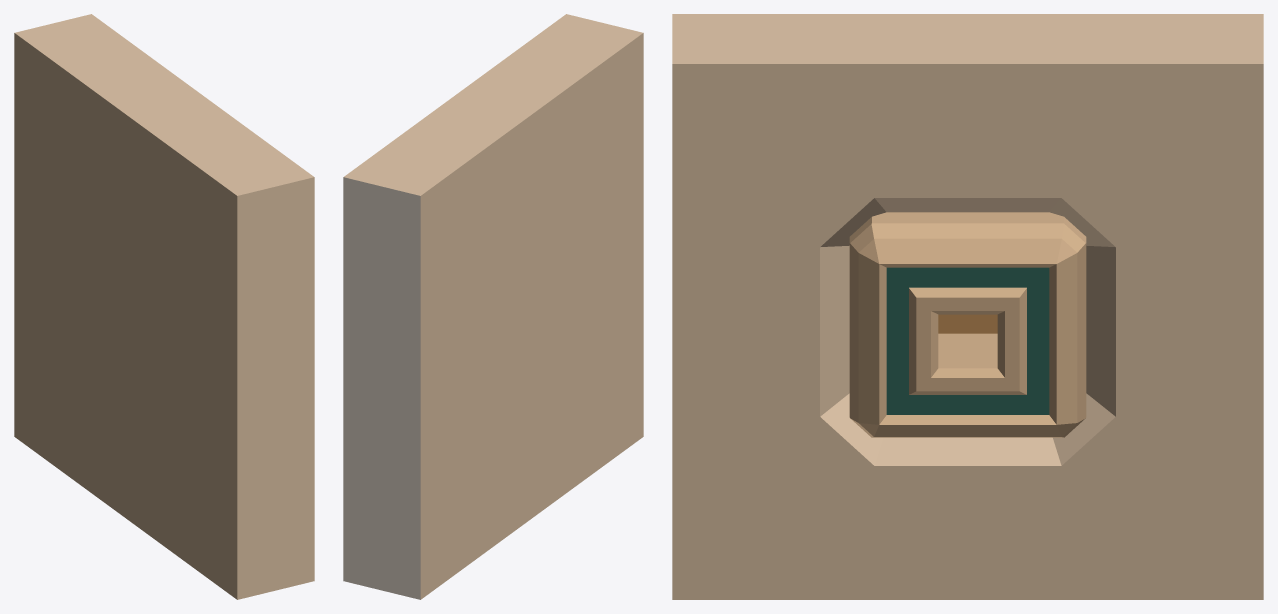
The model's file is Led.glb.
The picture shows the model from 3 angles, left to right: view 1: azimuth 30°, elevation 25°; view 2: azimuth 150°, elevation 25°; view 3: azimuth 270°, elevation 25°; orthographic projection. The views are drawn at different scales.
Visible parts, largest first — view 1: mergedBlocks(Clone); view 2: mergedBlocks(Clone); view 3: mergedBlocks(Clone).
Boxes of the visible parts, <box> form: mergedBlocks(Clone): <box>14,14,314,599</box>; mergedBlocks(Clone): <box>343,14,643,599</box>; mergedBlocks(Clone): <box>672,14,1263,599</box>.
Size of the model in its own units: 0.75 by 3 by 3.
